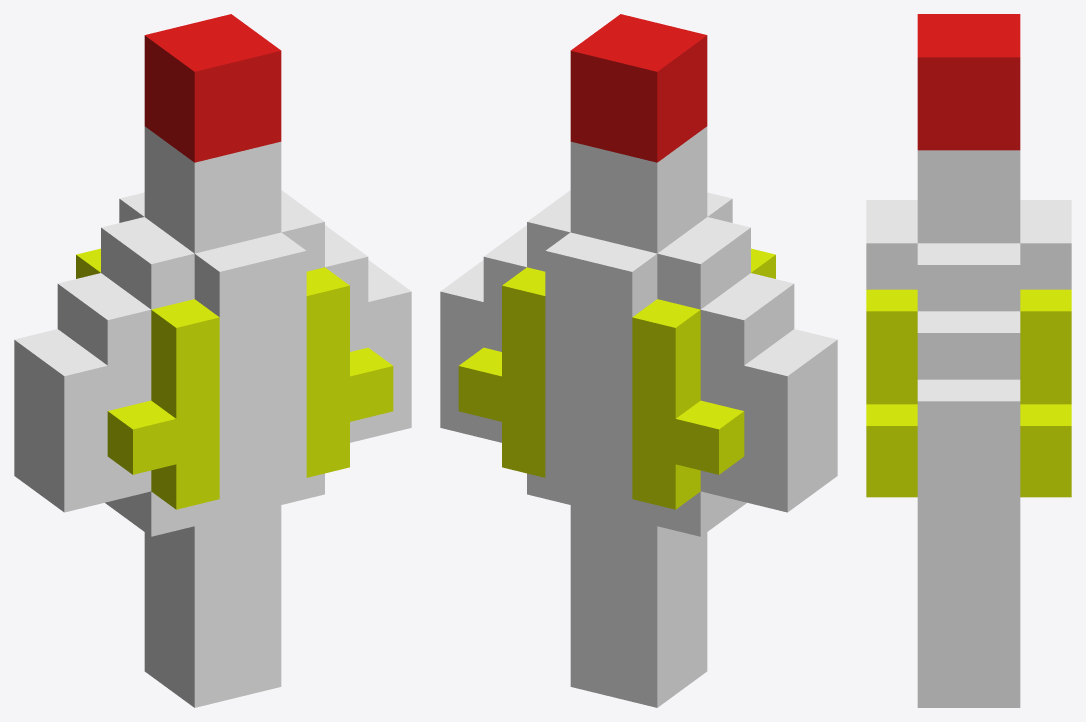
Rendered from missile.obj.
3 renders of one model, left to right at view 1: azimuth 30°, elevation 25°; view 2: azimuth 150°, elevation 25°; view 3: azimuth 270°, elevation 25°, orthographic. The views are drawn at different scales.
Bounding box in the file's own units: 0.8 × 1.4 × 0.4.
Materials: 1 (1 with a texture image).
